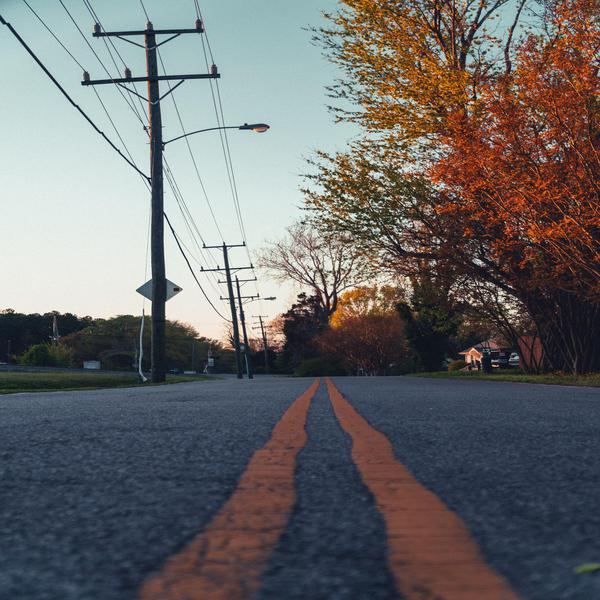utility_pole: (74, 9, 226, 139), (192, 234, 258, 289)
